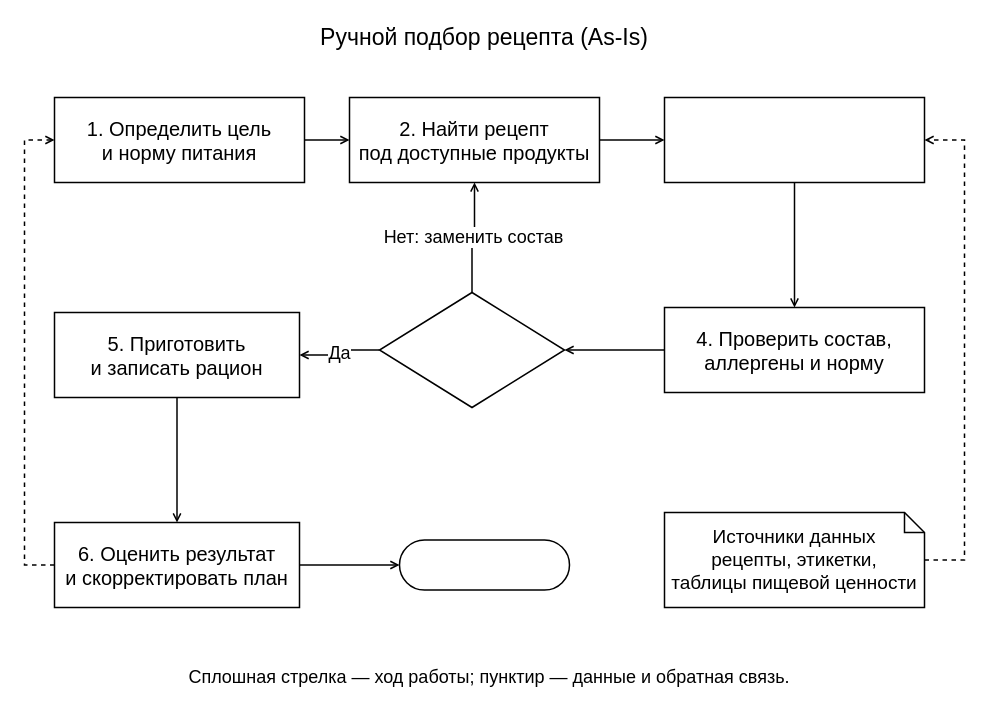
The diagram is 991 pixels wide and 719 high, and some of its shapes have lost their labels. Each missing label, with the centre of its shape:
"3. Рассчитать массы, калории и БЖУ" belongs at (794,139).
"План уточнён" belongs at (484,564).
"Состав подходит?" belongs at (471,349).
